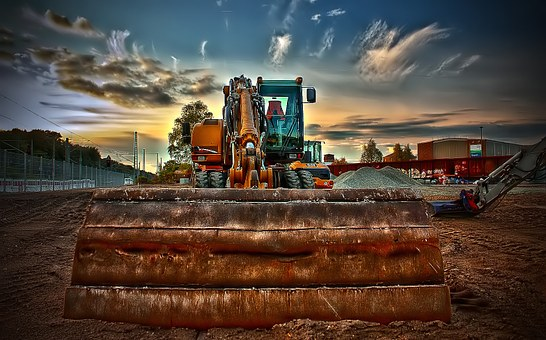excavator: (60, 71, 460, 327)
